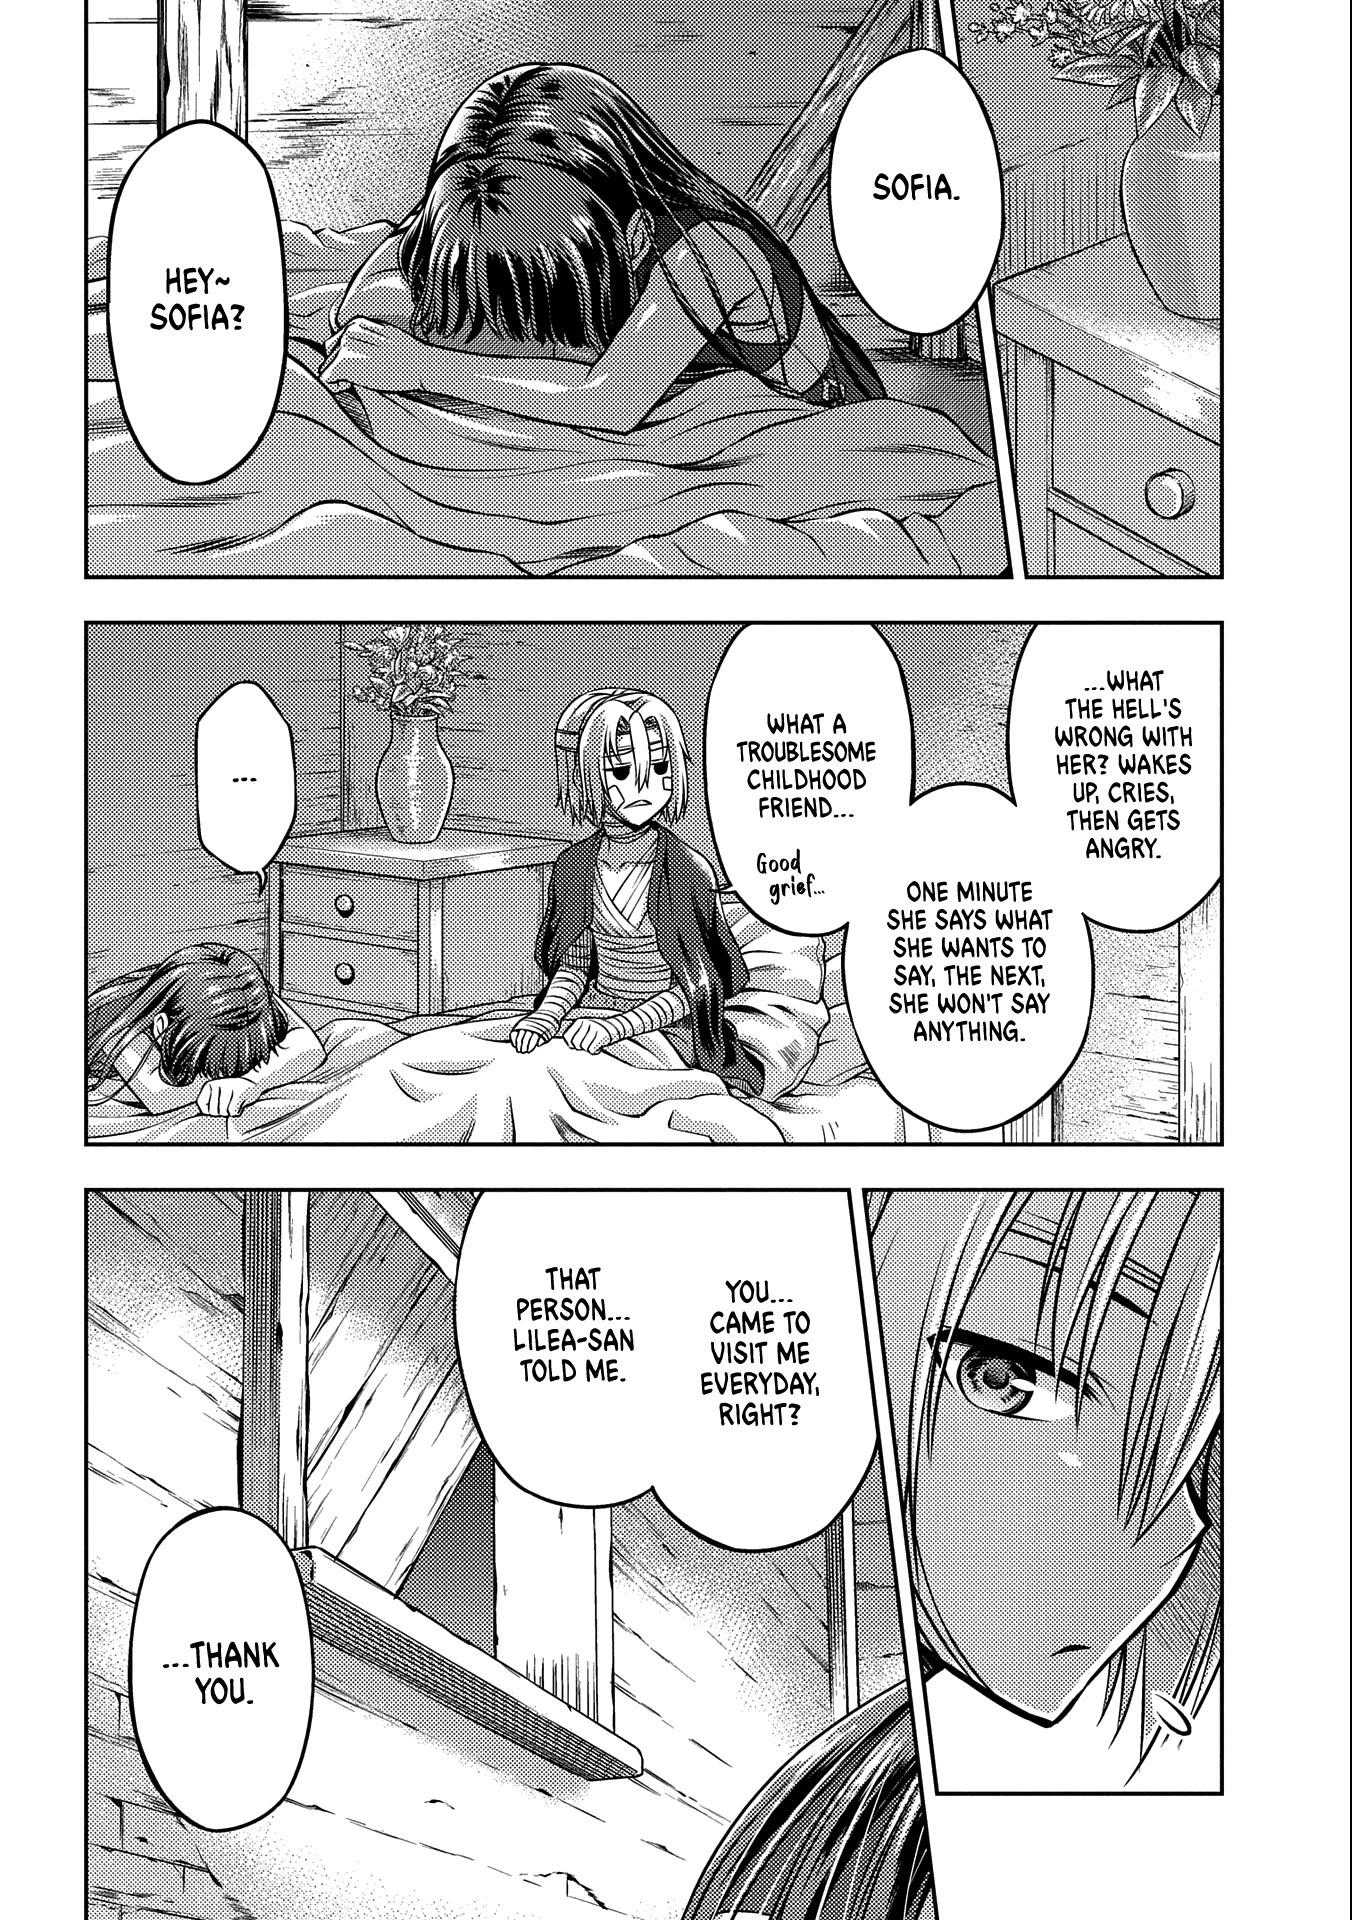Bubble: (656, 1185, 885, 1556), (104, 117, 293, 492), (448, 1182, 657, 1512), (123, 1500, 319, 1838), (1024, 618, 1231, 904), (862, 868, 1071, 1136), (824, 45, 1010, 342), (701, 613, 919, 837), (190, 675, 301, 880), (710, 839, 863, 938)
